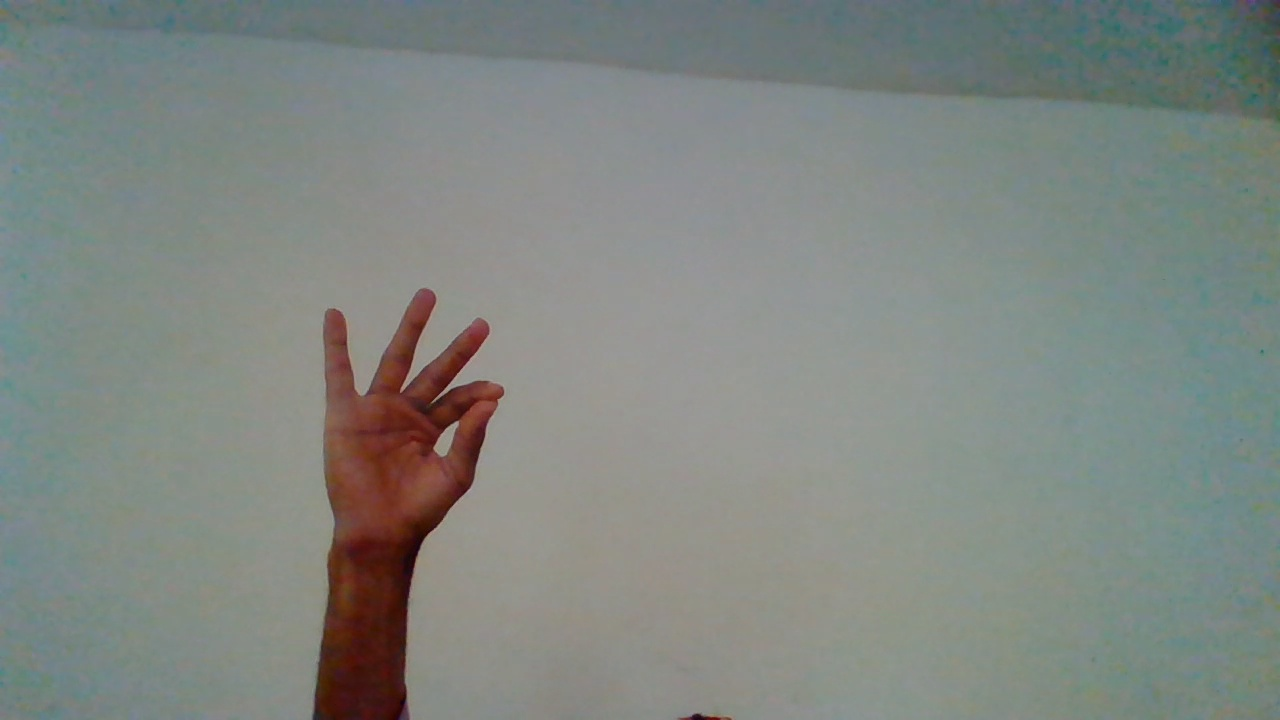le: (317, 286, 516, 701)
